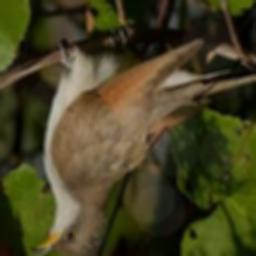Cuckoo: (31, 39, 207, 256)
